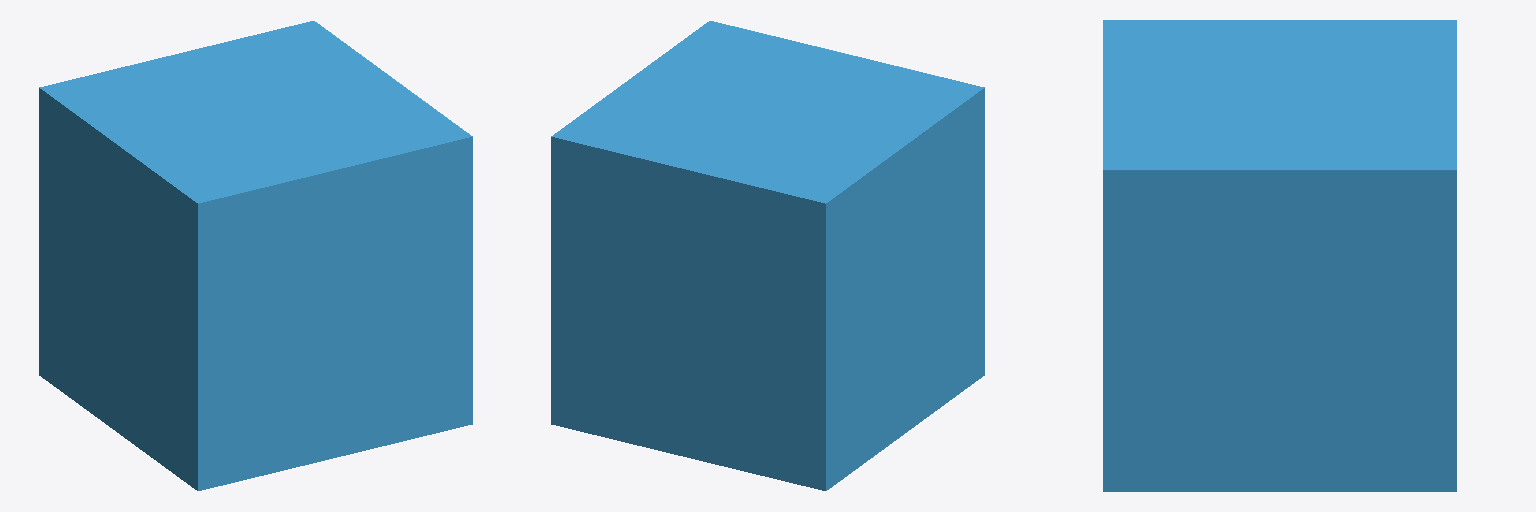
robot.urdf — kinova:
<?xml version="1.0" ?>
<!-- =================================================================================== -->
<!-- |    This document was autogenerated by xacro from [local-path]/rsl_vt/catkin_ws/src/kinova_common/kinova_description/urdf/kinova.urdf.xacro | -->
<!-- |    EDITING THIS FILE BY HAND IS NOT RECOMMENDED                                 | -->
<!-- =================================================================================== -->
<!-- j2s6_3 refers to jaco v2 6DOF spherical 3fingers -->
<robot name="kinova">

  <link name="world"/>

  <!-- Base link -->
  <link name="kinova_link_base">
    <visual>
      <geometry>
        <mesh filename="../meshes/base.dae"/>
      </geometry>
      <material name="carbon_fiber">
        <color rgba="0.792156862745098 0.819607843137255 0.933333333333333 1"/>
      </material>
    </visual>
  </link>

  <joint name="kinova_joint_base" type="fixed">
    <parent link="world"/>
    <child link="kinova_link_base"/>
    <origin rpy="0 0 0" xyz="0 0 0"/>
  </joint>

  <!-- Fixed joint to add dummy inertia link -->
  <joint name="kinova_link_base_to_kinova_link_base_inertia" type="fixed">
    <parent link="kinova_link_base"/>
    <child link="kinova_link_base_inertia"/>
    <origin rpy="0 0 0" xyz="0 0 0"/>
  </joint>

  <!-- Dummy inertia link, because KDL cannot have inertia on the base link -->
  <link name="kinova_link_base_inertia">
    <inertial>
      <mass value="0.46784"/>
      <origin rpy="0 0 0" xyz="0 0 0.1255"/>
      <inertia ixx="0.000951270861568" ixy="0" ixz="0" iyy="0.000951270861568" iyz="0" izz="0.000374272"/>
    </inertial>
  </link>

  <link name="kinova_link_1">
    <visual>
      <geometry>
        <mesh filename="../meshes/shoulder.dae"/>
      </geometry>
      <material name="carbon_fiber">
        <color rgba="0.792156862745098 0.819607843137255 0.933333333333333 1"/>
      </material>
    </visual>
    <visual>
      <geometry>
        <mesh filename="../meshes/ring_big.STL"/>
      </geometry>
    </visual>
    <inertial>
      <mass value="0.7477"/>
      <origin xyz="0 -0.002 -0.0605"/>
      <inertia ixx="0.00152031725204" ixy="0" ixz="0" iyy="0.00152031725204" iyz="0" izz="0.00059816"/>
    </inertial>
  </link>

  <joint name="kinova_joint_1" type="revolute">
    <parent link="kinova_link_base"/>
    <child link="kinova_link_1"/>
    <axis xyz="0 0 1"/>
    <limit effort="30.5" lower="-62.8318530718" upper="62.8318530718" velocity="15"/>
    <origin rpy="0 3.14159265359 0" xyz="0 0 0.15675"/>
    <dynamics damping="0.0" friction="0.0"/>
  </joint>

  <link name="kinova_link_2">
    <visual>
      <geometry>
        <mesh filename="../meshes/arm.dae"/>
      </geometry>
      <material name="carbon_fiber">
        <color rgba="0.792156862745098 0.819607843137255 0.933333333333333 1"/>
      </material>
    </visual>
    <visual>
      <geometry>
        <mesh filename="../meshes/ring_big.STL"/>
      </geometry>
    </visual>
    <inertial>
      <mass value="0.99"/>
      <origin xyz="0 -0.2065 -0.01"/>
      <inertia ixx="0.010502207991" ixy="0" ixz="0" iyy="0.000792" iyz="0" izz="0.010502207991"/>
    </inertial>
  </link>

  <joint name="kinova_joint_2" type="revolute">
    <parent link="kinova_link_1"/>
    <child link="kinova_link_2"/>
    <axis xyz="0 0 1"/>
    <limit effort="30.5" lower="-62.8318530718" upper="62.8318530718" velocity="15"/>
    <!-- limit effort also defines torque limit and freeze controller gains -->
    <origin rpy="-1.57079632679 0 3.14159265359" xyz="0 0.0016 -0.11875"/>
    <dynamics damping="0.0" friction="0.0"/>
  </joint>

  <link name="kinova_link_3">
    <visual>
      <geometry>
        <mesh filename="../meshes/forearm.dae"/>
      </geometry>
      <material name="carbon_fiber">
        <color rgba="0.792156862745098 0.819607843137255 0.933333333333333 1"/>
      </material>
    </visual>
    <visual>
      <geometry>
        <mesh filename="../meshes/ring_big.STL"/>
      </geometry>
    </visual>
    <inertial>
      <mass value="0.6763"/>
      <origin xyz="0 0.081 -0.0086"/>
      <inertia ixx="0.00142022431908" ixy="0" ixz="0" iyy="0.000304335" iyz="0" izz="0.00142022431908"/>
    </inertial>
  </link>

  <joint name="kinova_joint_3" type="revolute">
    <parent link="kinova_link_2"/>
    <child link="kinova_link_3"/>
    <axis xyz="0 0 1"/>
    <limit effort="30.5" lower="-62.8318530718" upper="62.8318530718" velocity="15"/>
    <!-- limit effort also defines torque limit and freeze controller gains -->
    <origin rpy="0 3.14159265359 0" xyz="0 -0.410 0"/>
    <dynamics damping="0.0" friction="0.0"/>
  </joint>

  <link name="kinova_link_4">
    <visual>
      <geometry>
        <mesh filename="../meshes/wrist_spherical_1.dae"/>
      </geometry>
      <material name="carbon_fiber">
        <color rgba="0.792156862745098 0.819607843137255 0.933333333333333 1"/>
      </material>
    </visual>
    <visual>
      <geometry>
        <mesh filename="../meshes/ring_small.STL"/>
      </geometry>
    </visual>
    --&gt;

    <inertial>
      <mass value="0.463"/>
      <origin xyz="0 0.0028848942 -0.0541932613"/>
      <inertia ixx="0.0004321316048" ixy="0" ixz="0" iyy="0.0004321316048" iyz="0" izz="9.26e-05"/>
    </inertial>
  </link>

  <joint name="kinova_joint_4" type="revolute">
    <parent link="kinova_link_3"/>
    <child link="kinova_link_4"/>
    <axis xyz="0 0 1"/>
    <limit effort="6.8" lower="-62.8318530718" upper="6.28318530718" velocity="15"/>
    <!-- limit effort also defines torque limit and freeze controller gains -->
    <origin rpy="-1.57079632679 0 3.14159265359" xyz="0 0.2073 -0.0114"/>
    <dynamics damping="0.0" friction="0.0"/>
  </joint>

  <link name="kinova_link_5">
    <visual>
      <geometry>
        <mesh filename="../meshes/wrist_spherical_2.dae"/>
      </geometry>
      <material name="carbon_fiber">
        <color rgba="0.792156862745098 0.819607843137255 0.933333333333333 1"/>
      </material>
    </visual>
    <visual>
      <geometry>
        <mesh filename="../meshes/ring_small.STL"/>
      </geometry>
    </visual>
    --&gt;

    <inertial>
      <mass value="0.463"/>
      <origin xyz="0 0.0497208855 -0.0028562765"/>
      <inertia ixx="0.0004321316048" ixy="0" ixz="0" iyy="9.26e-05" iyz="0" izz="0.0004321316048"/>
    </inertial>
  </link>

  <joint name="kinova_joint_5" type="revolute">
    <parent link="kinova_link_4"/>
    <child link="kinova_link_5"/>
    <axis xyz="0 0 1"/>
    <limit effort="6.8" lower="-6.28318530718" upper="62.8318530718" velocity="15"/>
    <!-- limit effort also defines torque limit and freeze controller gains -->
    <origin rpy="1.57079632679 0 3.14159265359" xyz="0 0 -0.10375"/>
    <dynamics damping="0.0" friction="0.0"/>
  </joint>

  <link name="kinova_link_6">
    <visual>
      <geometry>
        <mesh filename="../meshes/hand_3finger.dae"/>
      </geometry>
      <material name="carbon_fiber">
        <color rgba="0.792156862745098 0.819607843137255 0.933333333333333 1"/>
      </material>
    </visual>
    <visual>
      <geometry>
        <mesh filename="../meshes/ring_small.STL"/>
      </geometry>
    </visual>
    <inertial>
      <mass value="1.327"/>
      <!-- 0.927 is original mass without additional force sensor -->
      <origin xyz="0 0 -0.06"/>
      <inertia ixx="0.0004403232387" ixy="0" ixz="0" iyy="0.0004403232387" iyz="0" izz="0.0007416"/>
    </inertial>
  </link>

  <joint name="kinova_joint_6" type="revolute">
    <parent link="kinova_link_5"/>
    <child link="kinova_link_6"/>
    <axis xyz="0 0 1"/>
    <limit effort="6.8" lower="-62.8318530718" upper="62.8318530718" velocity="15"/>
    <!-- limit effort also defines torque limit and freeze controller gains -->
    <origin rpy="-1.57079632679 0 3.14159265359" xyz="0 0.10375 0"/>
    <dynamics damping="0.0" friction="0.0"/>
  </joint>

  <link name="kinova_end_effector">
    <!-- Inertial properties and a fixed revolute joint have been added to this link to make it possible to use the gazebo_link_attacher plugin -->
    <!-- Minor collision properties are added to avoid bug/crash when running model in Gazebo -->
    <visual>
      <geometry>
        <box size="0.0001 0.0001 0.0001"/>
      </geometry>
    </visual>
    <inertial>
      <origin rpy="0 0 0" xyz="0.0 0.0 0.0"/>
      <mass value="0.01"/>
      <inertia ixx="0.01" ixy="0" ixz="0" iyy="0.01" iyz="0" izz="0.01"/>
    </inertial>
  </link>

  <joint name="kinova_joint_end_effector" type="fixed">
    <parent link="kinova_link_6"/>
    <child link="kinova_end_effector"/>
    <axis xyz="0 0 0"/>
    <limit effort="2000" lower="0" upper="0" velocity="1"/>
    <origin rpy="3.14159265359 0 0" xyz="0 0 -0.1600"/>
  </joint>


</robot>

--- What the picture shows (computed from the rendered views, not written in the file) ---
The picture shows the robot from 3 angles, left to right: view 1: azimuth 30°, elevation 25°; view 2: azimuth 150°, elevation 25°; view 3: azimuth 270°, elevation 25°; orthographic projection.
Model kinova with 10 links and 9 joints (6 revolute, 3 fixed), rooted at world, posed all joints at 0.
Visible links, largest first — view 1: kinova_end_effector; view 2: kinova_end_effector; view 3: kinova_end_effector.
Link boxes in pixels (x1=…): kinova_end_effector: x1=39, y1=21, x2=472, y2=490; kinova_end_effector: x1=551, y1=21, x2=984, y2=490; kinova_end_effector: x1=1103, y1=20, x2=1456, y2=491.
Bounding box of the posed robot: 0.0001 × 0.0001 × 0.0001 m (x, y, z).
Meshes: 9 distinct files referenced, 0 mesh visuals loaded (none loaded); not drawn: 13 (reference not matched to a file when rendering).